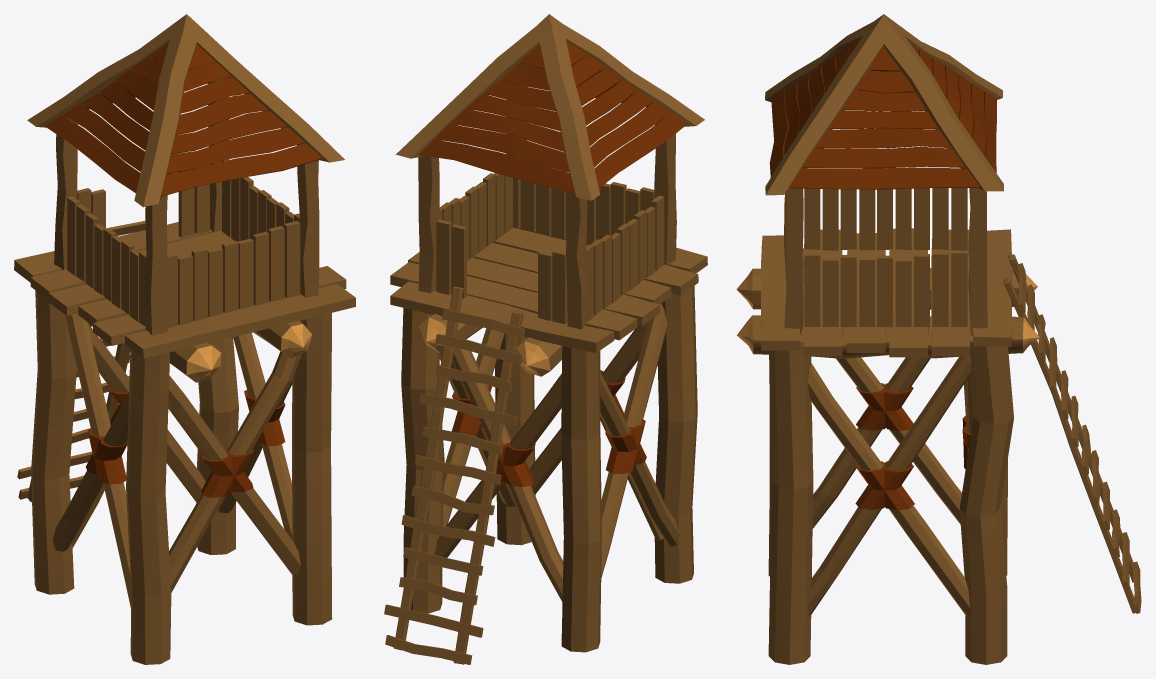
File: viking tower2.fbx
The picture shows the model from 3 angles, left to right: view 1: azimuth 30°, elevation 25°; view 2: azimuth 150°, elevation 25°; view 3: azimuth 270°, elevation 25°; orthographic projection. The views are drawn at different scales.
Visible parts, largest first — view 1: tower2; view 2: tower2; view 3: tower2.
Boxes of the visible parts, bbox=[...] form: tower2: bbox=[14, 14, 355, 664]; tower2: bbox=[384, 14, 707, 664]; tower2: bbox=[736, 14, 1141, 664].
Bounding box in the file's own units: 449 × 1053 × 642.
